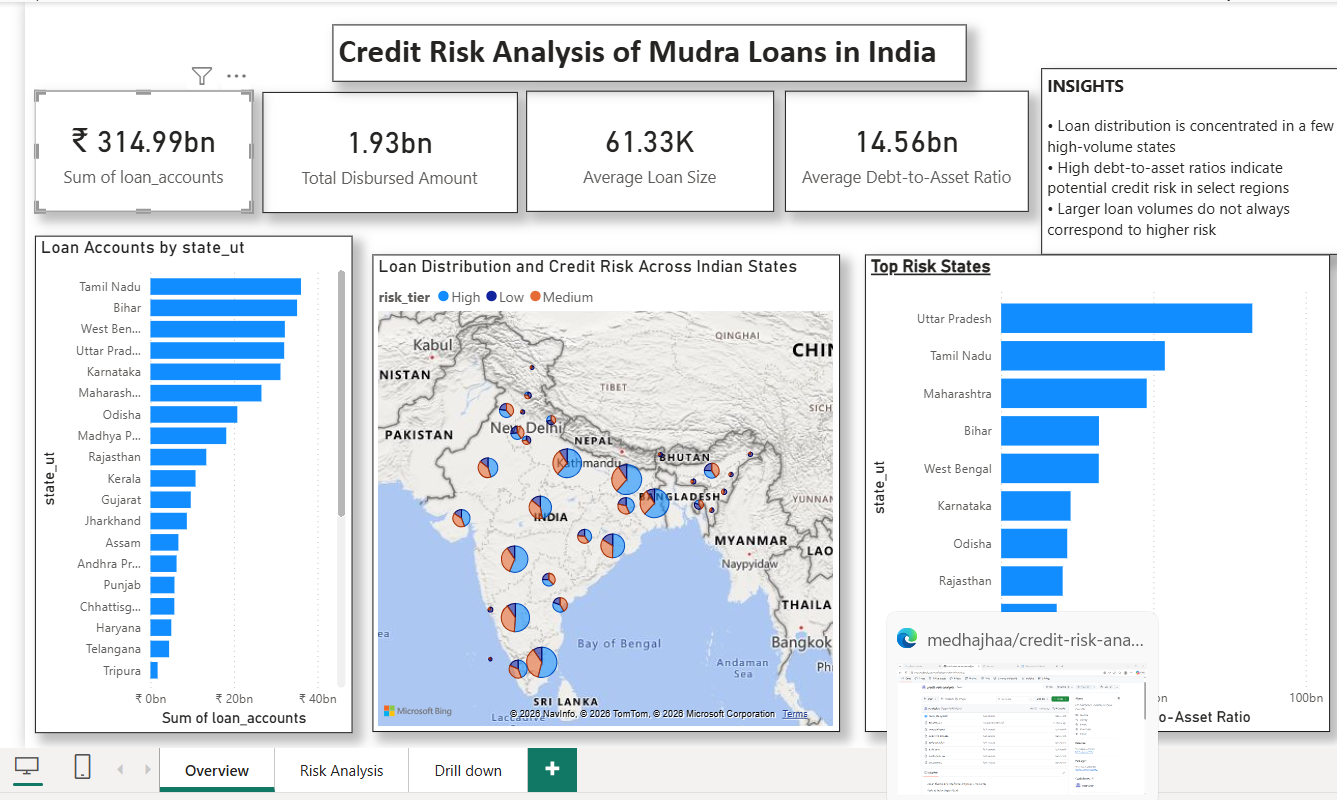

Layout of this report page (visuals, bound fields, positions):
{"tool":"powerbi","page":{"name":"Overview","canvas":[1280,720],"ordinal":0},"visuals":[{"type":"card","fields":{"Values":["Sheet1.Total Disbursed Amount (Cr)"]},"box":[226.8,77.2,246.1,117],"z":0},{"type":"card","fields":{"Values":["Sum(Sheet1.loan_accounts)"]},"box":[9.7,77.2,209.9,117],"z":1000},{"type":"card","fields":{"Values":["Sheet1.Average Loan Size"]},"box":[481.4,77.2,238.9,117],"z":2000},{"type":"card","fields":{"Values":["Sheet1.Average Debt-to-Asset Ratio"]},"box":[735.9,77.2,235.3,117],"z":3000},{"type":"clusteredBarChart","title":"Loan Accounts by state_ut","fields":{"Category":["Sheet1.state_ut"],"Y":["Sum(Sheet1.loan_accounts)"]},"box":[9.6,225,306,480.3],"z":4000},{"type":"map","title":"Loan Distribution and Credit Risk Across Indian States","fields":{"Category":["Sheet1.state_ut"],"Size":["Sum(Sheet1.loan_accounts)"],"Series":["Sheet1.risk_tier"]},"box":[334.8,244.3,451.5,461.1],"z":6000},{"type":"textbox","box":[296.8,13.3,651.5,50.7],"z":6002},{"type":"textbox","box":[981.1,64.5,299.1,179.8],"z":6003},{"type":"barChart","title":"Top Risk States","fields":{"Category":["Sheet1.state_ut"],"Y":["Sheet1.Average Debt-to-Asset Ratio"]},"box":[811,244.3,448.7,461.1],"z":6004}]}

Visuals, with their boxes in screenshot pixels (x1, y1, x2, y2):
card - Sheet1.Total Disbursed Amount (Cr): bbox(258, 83, 511, 204)
card - Sum(Sheet1.loan_accounts): bbox(34, 83, 251, 204)
card - Sheet1.Average Loan Size: bbox(520, 83, 766, 204)
card - Sheet1.Average Debt-to-Asset Ratio: bbox(782, 83, 1025, 204)
"Loan Accounts by state_ut" clusteredBarChart: bbox(34, 235, 349, 730)
"Loan Distribution and Credit Risk Across Indian States" map: bbox(369, 255, 834, 730)
textbox: bbox(330, 17, 1001, 69)
textbox: bbox(1035, 70, 1336, 255)
"Top Risk States" barChart: bbox(860, 255, 1322, 730)
